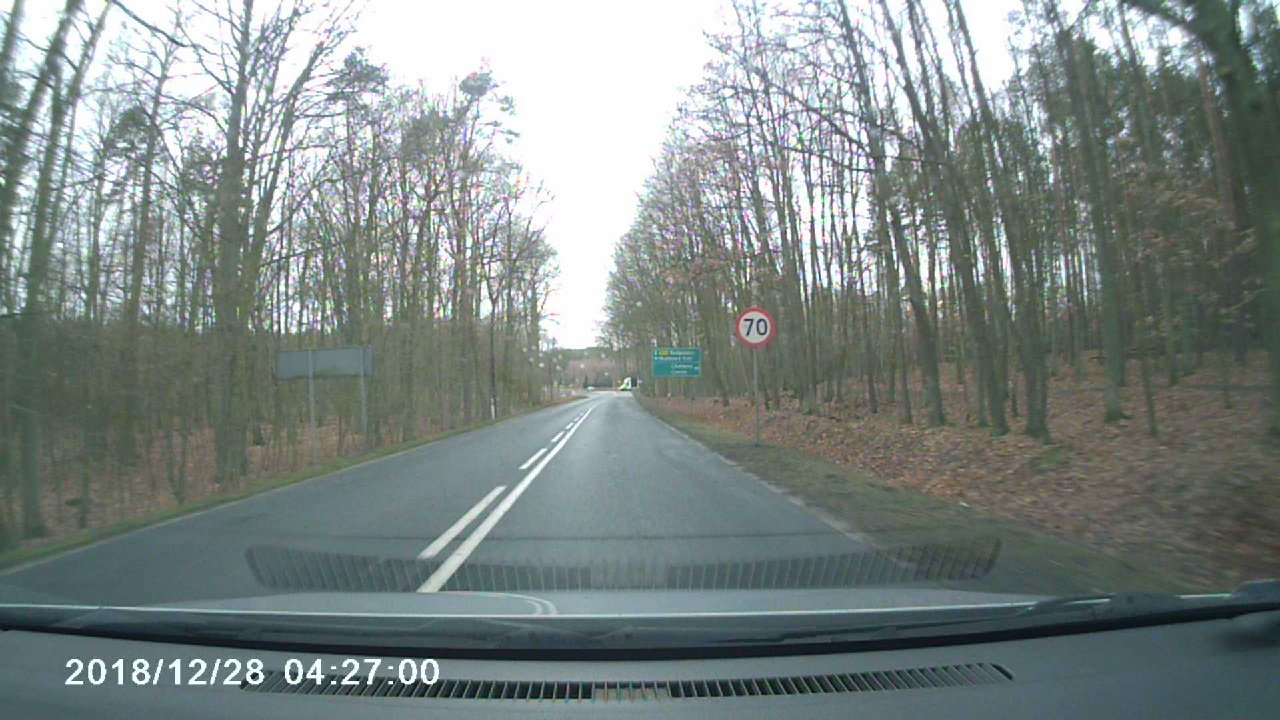B33_70: (735, 307, 776, 345)
